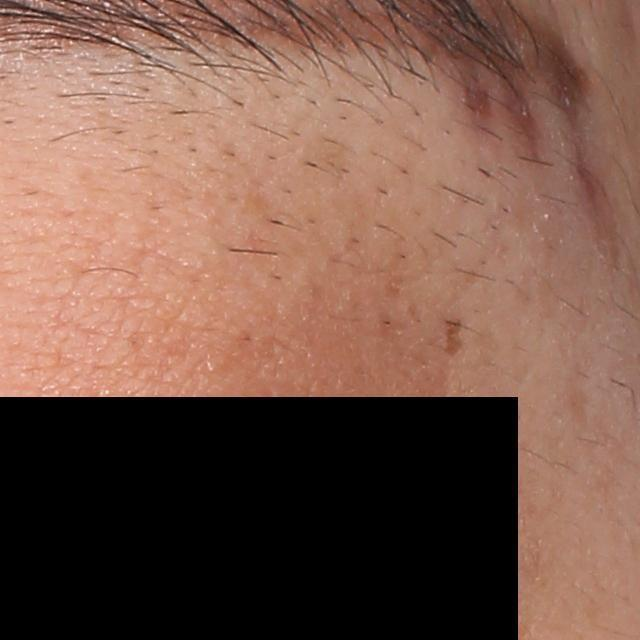atrophic_scar: (554, 60, 603, 204), (501, 62, 550, 164), (459, 49, 496, 126)
melasma: (442, 317, 465, 359)
